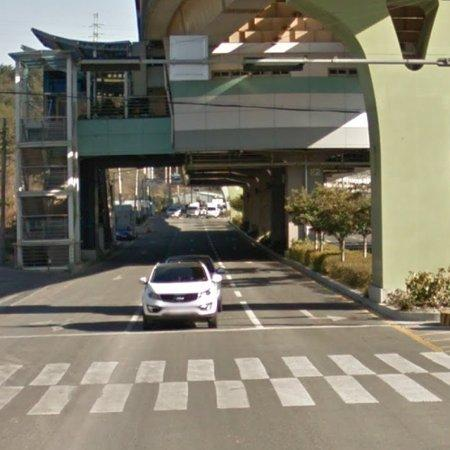crosswalks: (0, 371, 450, 414)
